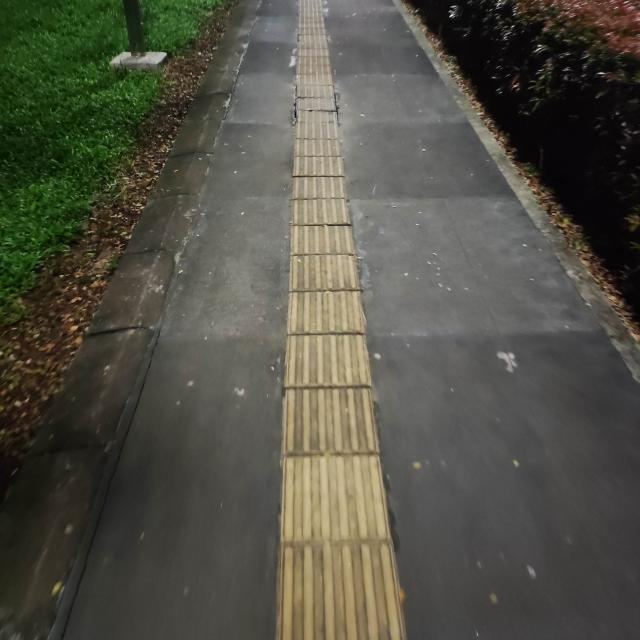lurus: (268, 6, 402, 640)
